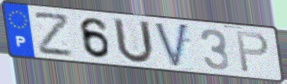3: (199, 28, 231, 71)
6: (77, 16, 112, 61)
P: (235, 30, 271, 74)
U: (111, 16, 157, 66)
V: (152, 21, 190, 71)
Z: (32, 12, 75, 58)
